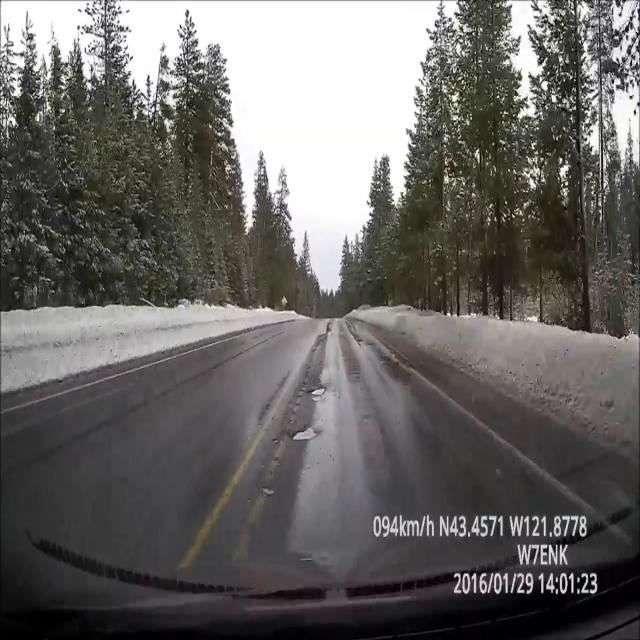Pothole: (306, 372, 330, 407), (293, 419, 324, 444)
